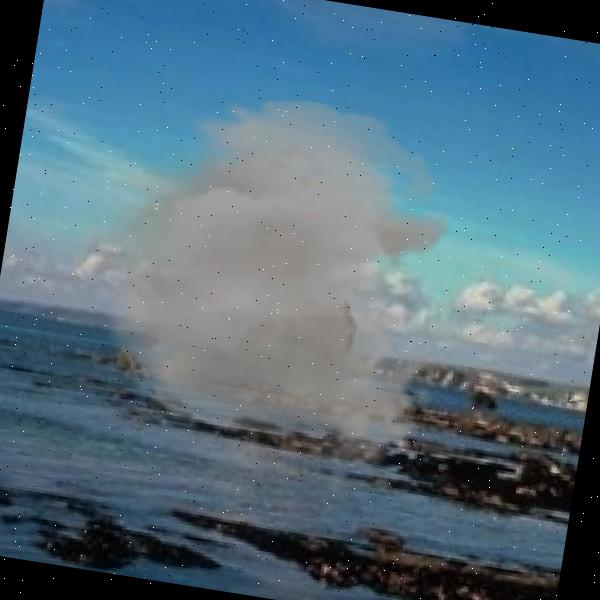smoke: (38, 67, 478, 478)
